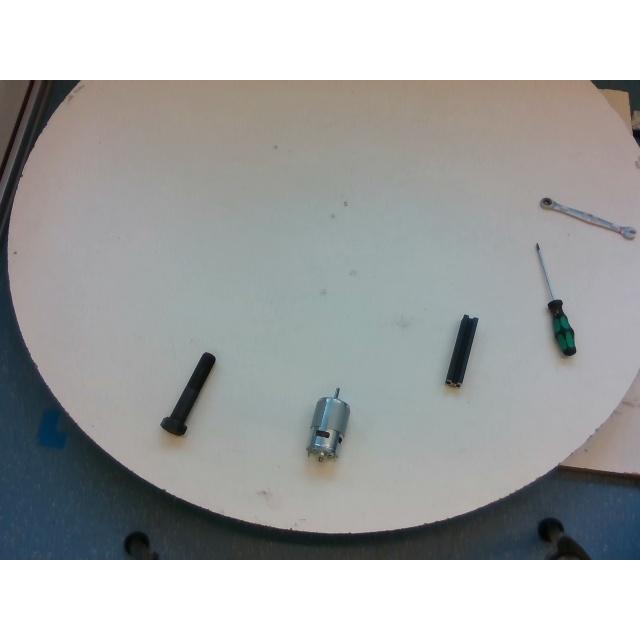F20_20_B: (447, 314, 478, 384)
M20_100: (161, 352, 215, 434)
Motor2: (307, 388, 349, 459)
Screwdriver: (536, 244, 576, 354)
Wrench: (540, 198, 636, 238)
